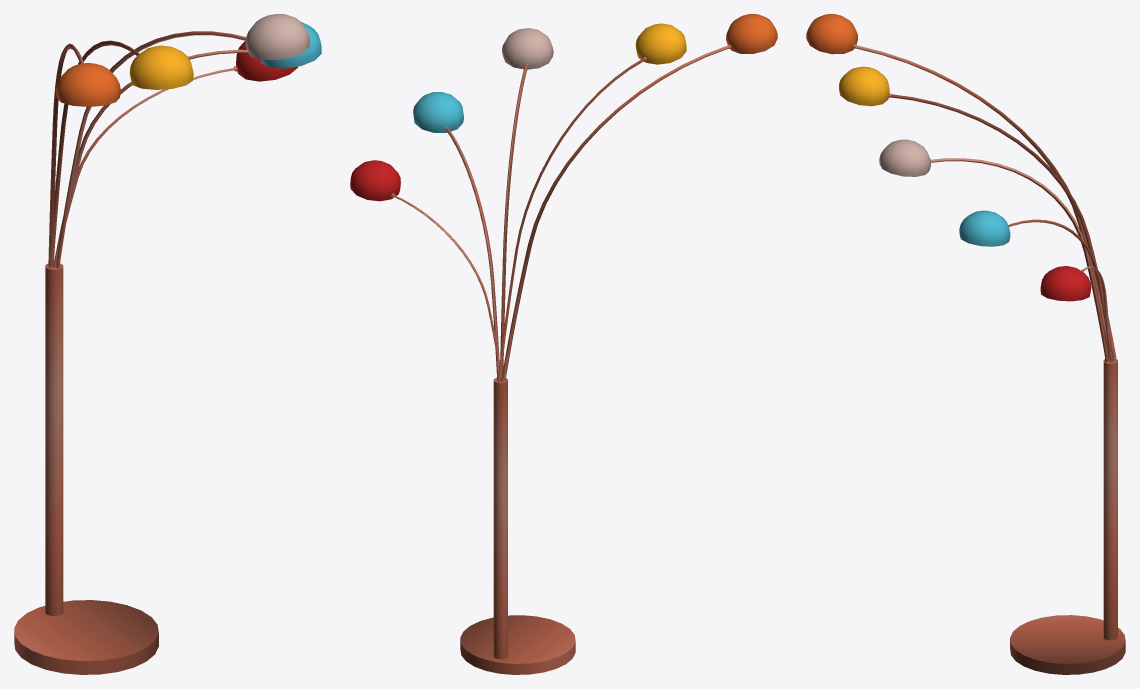
Rendered from stehlampe.dae.
The picture shows the model from 3 angles, left to right: view 1: azimuth 30°, elevation 25°; view 2: azimuth 150°, elevation 25°; view 3: azimuth 270°, elevation 25°; orthographic projection. The views are drawn at different scales.
Parts seen in each view (by area): view 1: Component_3 (×2), group_8, group_7, group_6, group_1, group_5, group_9, group_4, group_10, group_2, group_3; view 2: Component_3 (×2), group_5, group_8, group_10, group_7, group_9, group_6, group_4, group_1, group_2; view 3: Component_3 (×2), group_6, group_7, group_8, group_10, group_9, group_5, group_4, group_1, group_2.
Boxes of the visible parts, left/top/right/bottom form: Component_3 (×2): left=14, top=263, right=158, bottom=674; group_8: left=245, top=14, right=310, bottom=59; group_7: left=129, top=45, right=193, bottom=89; group_6: left=55, top=63, right=120, bottom=106; group_1: left=56, top=31, right=245, bottom=268; group_5: left=48, top=43, right=83, bottom=267; group_9: left=236, top=41, right=298, bottom=81; group_4: left=53, top=40, right=139, bottom=264; group_10: left=260, top=22, right=321, bottom=68; group_2: left=57, top=49, right=247, bottom=246; group_3: left=53, top=68, right=234, bottom=267; Component_3 (×2): left=460, top=377, right=575, bottom=674; group_5: left=501, top=45, right=729, bottom=381; group_8: left=501, top=28, right=553, bottom=69; group_10: left=413, top=92, right=463, bottom=132; group_7: left=635, top=23, right=686, bottom=64; group_9: left=350, top=160, right=400, bottom=201; group_6: left=726, top=14, right=777, bottom=53; group_4: left=498, top=58, right=644, bottom=382; group_1: left=500, top=66, right=527, bottom=374; group_2: left=446, top=129, right=499, bottom=380; Component_3 (×2): left=1010, top=359, right=1125, bottom=674; group_6: left=806, top=14, right=857, bottom=54; group_7: left=839, top=66, right=889, bottom=106; group_8: left=879, top=139, right=930, bottom=176; group_10: left=959, top=210, right=1010, bottom=246; group_9: left=1040, top=266, right=1091, bottom=301; group_5: left=855, top=45, right=1107, bottom=347; group_4: left=890, top=94, right=1116, bottom=361; group_1: left=931, top=158, right=1108, bottom=361; group_2: left=1008, top=219, right=1112, bottom=362.
Bounding box in the file's own units: 47.77 × 43.4 × 86.5.
7 materials, 2 textured.
